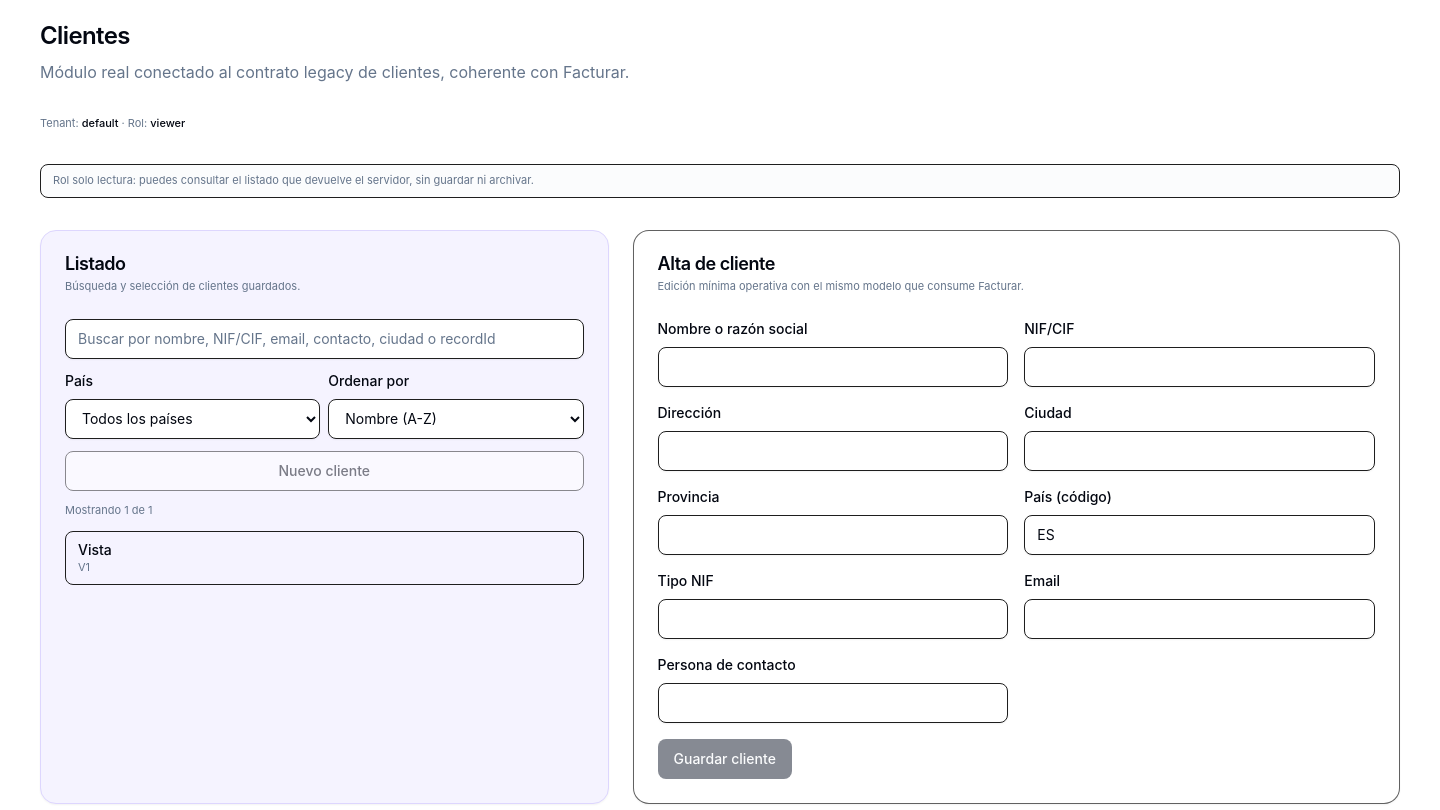
ClientsPage regression › viewer cannot save or archive
Click the text "Vista": click(95, 549) [78,541,112,558]
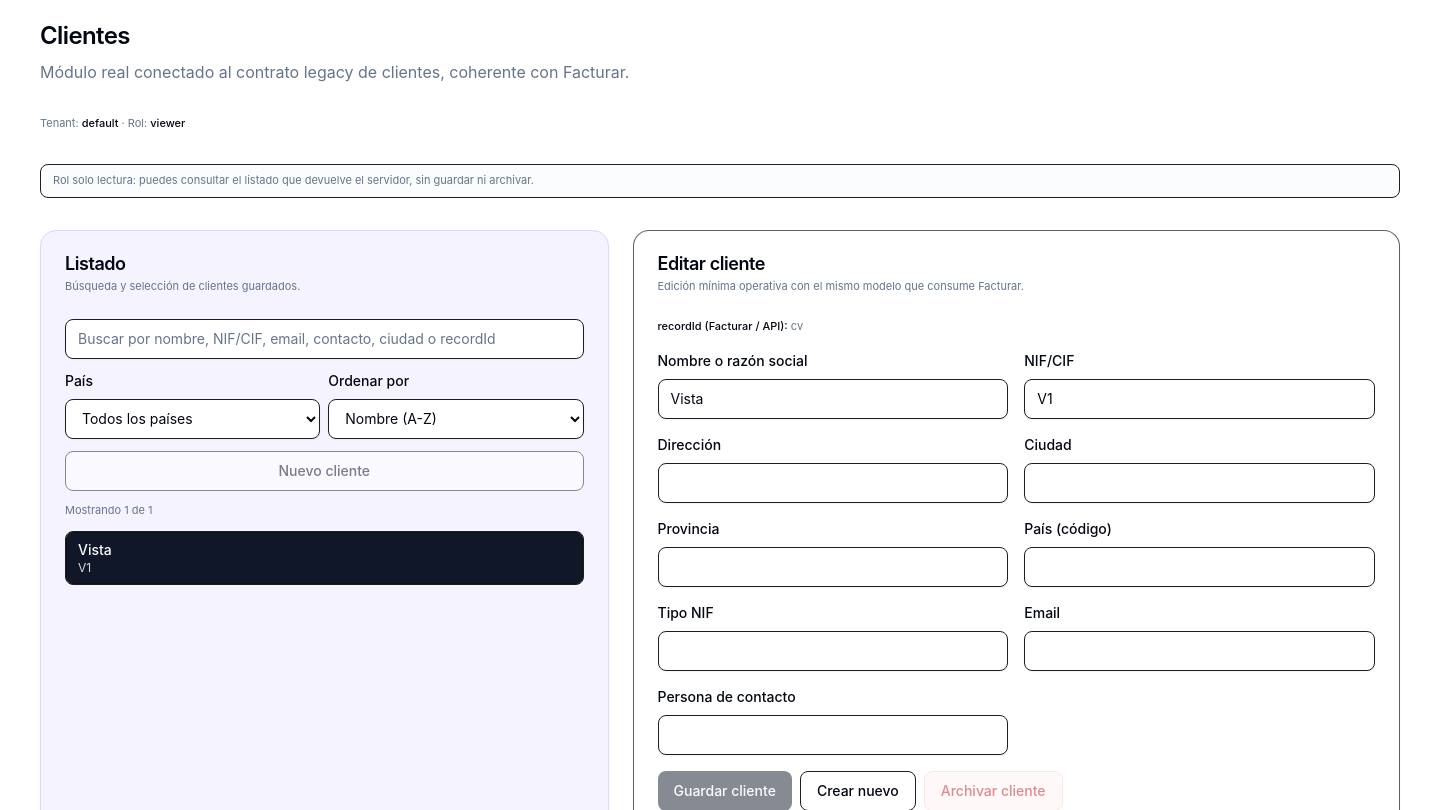
Expected: the button "Guardar cliente" is disabled, [658,771,792,809]
Expected: the button "Archivar cliente" is disabled, [924,771,1063,809]
